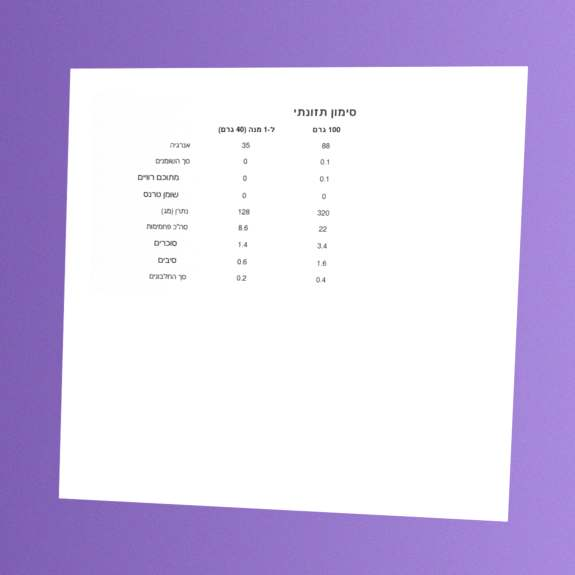carbs: (318, 225, 328, 234)
energy: (321, 142, 331, 151)
fat: (319, 158, 331, 167)
protein: (315, 276, 327, 285)
